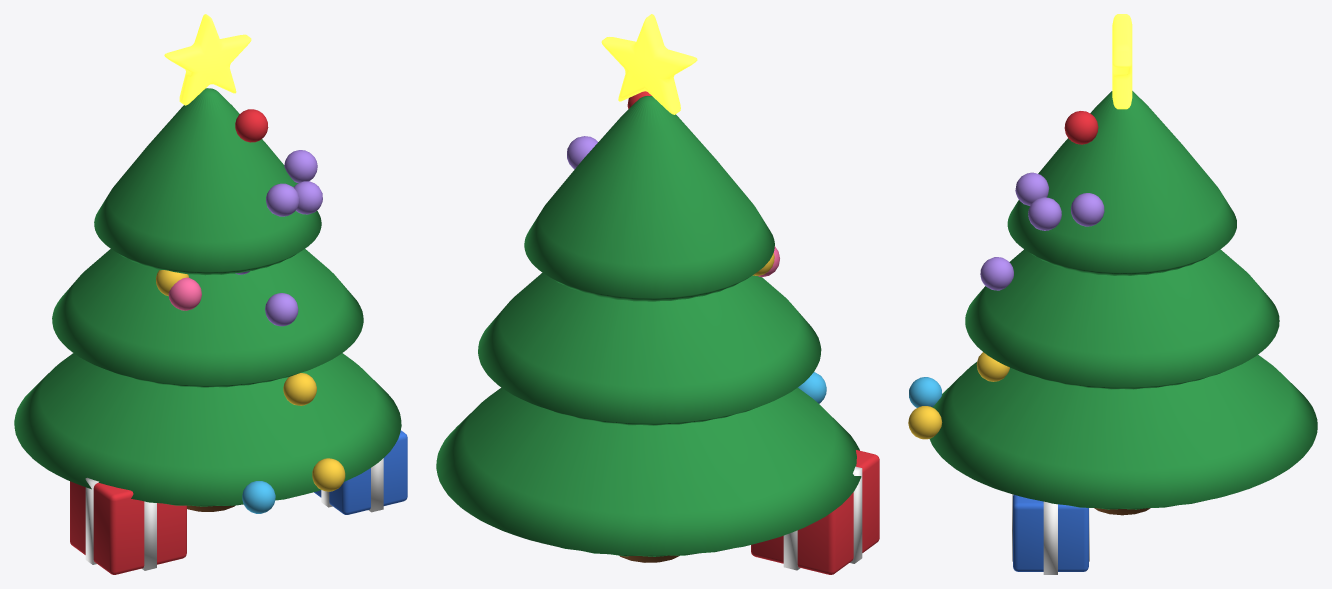
The model's file is d-xmastree.glb.
The picture shows the model from 3 angles, left to right: view 1: azimuth 30°, elevation 25°; view 2: azimuth 150°, elevation 25°; view 3: azimuth 270°, elevation 25°; orthographic projection. The views are drawn at different scales.
Visible parts, largest first — view 1: d-xmastree; view 2: d-xmastree; view 3: d-xmastree.
Part boxes in pixels (x1=…): d-xmastree: x1=14, y1=14, x2=407, y2=574; d-xmastree: x1=436, y1=14, x2=879, y2=574; d-xmastree: x1=908, y1=14, x2=1317, y2=574.
Size of the model in its own units: 0.1742 by 0.24 by 0.1826.
